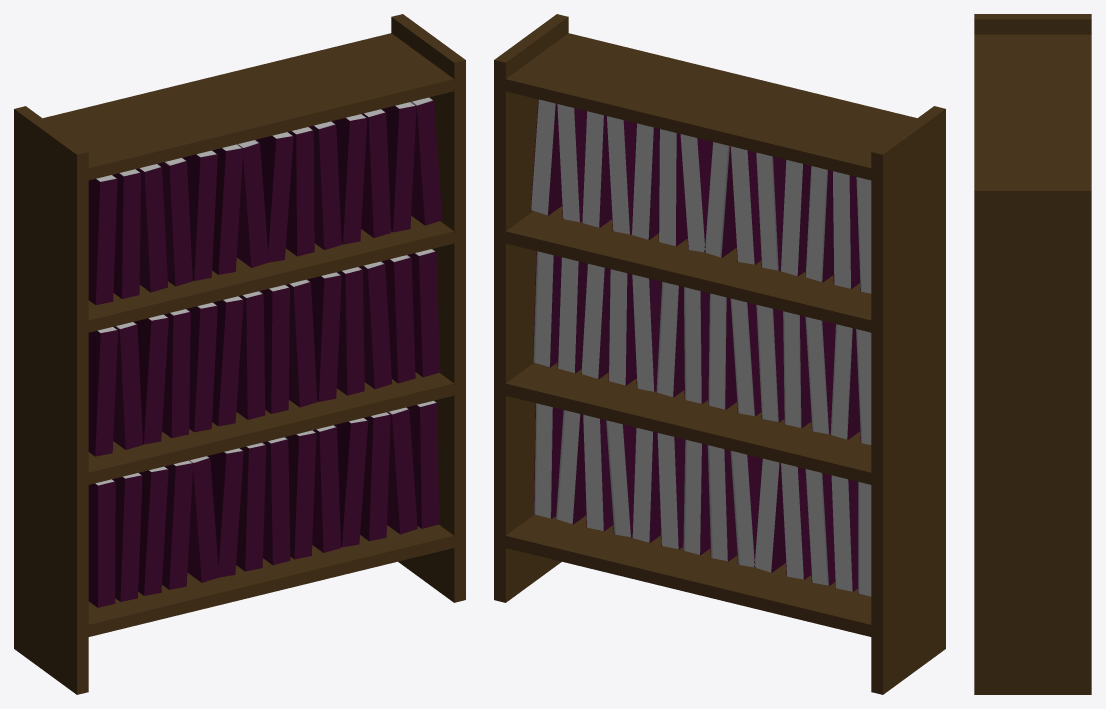
File: Shelves.fbx
The picture shows the model from 3 angles, left to right: view 1: azimuth 30°, elevation 25°; view 2: azimuth 150°, elevation 25°; view 3: azimuth 270°, elevation 25°; orthographic projection. The views are drawn at different scales.
Parts seen in each view (by area): view 1: Shelves1.002, Book0.113, Book0.099, Book0.085, Book0.120, Book0.123, Book0.117, Book0.125, Book0.101, Book0.108, Book0.090, Book0.103 (+31 smaller); view 2: Shelves1.002, Book0.114, Book0.116, Book0.115, Book0.122, Book0.118, Book0.121, Book0.124, Book0.126, Book0.125, Book0.106, Book0.107 (+31 smaller); view 3: Shelves1.002.
Boxes of the visible parts, left/top/right/bottom form: Shelves1.002: left=14, top=14, right=465, bottom=694; Book0.113: left=88, top=175, right=117, bottom=304; Book0.099: left=88, top=326, right=117, bottom=456; Book0.085: left=88, top=479, right=115, bottom=607; Book0.120: left=256, top=132, right=293, bottom=262; Book0.123: left=332, top=114, right=367, bottom=244; Book0.117: left=183, top=150, right=217, bottom=280; Book0.125: left=382, top=102, right=416, bottom=232; Book0.101: left=134, top=314, right=168, bottom=444; Book0.108: left=308, top=272, right=341, bottom=401; Book0.090: left=208, top=448, right=243, bottom=577; Book0.103: left=187, top=302, right=217, bottom=432; Shelves1.002: left=494, top=14, right=945, bottom=694; Book0.114: left=832, top=171, right=859, bottom=289; Book0.116: left=780, top=159, right=810, bottom=276; Book0.115: left=805, top=166, right=833, bottom=282; Book0.122: left=631, top=123, right=659, bottom=239; Book0.118: left=730, top=146, right=761, bottom=264; Book0.121: left=658, top=129, right=687, bottom=246; Book0.124: left=582, top=111, right=611, bottom=227; Book0.126: left=530, top=99, right=561, bottom=215; Book0.125: left=557, top=104, right=586, bottom=222; Book0.106: left=683, top=287, right=709, bottom=403; Book0.107: left=656, top=281, right=684, bottom=397; Shelves1.002: left=974, top=14, right=1091, bottom=694.
Size of the model in its own units: 100 by 133 by 28.03.
Materials: 3 (3 with a texture image).
